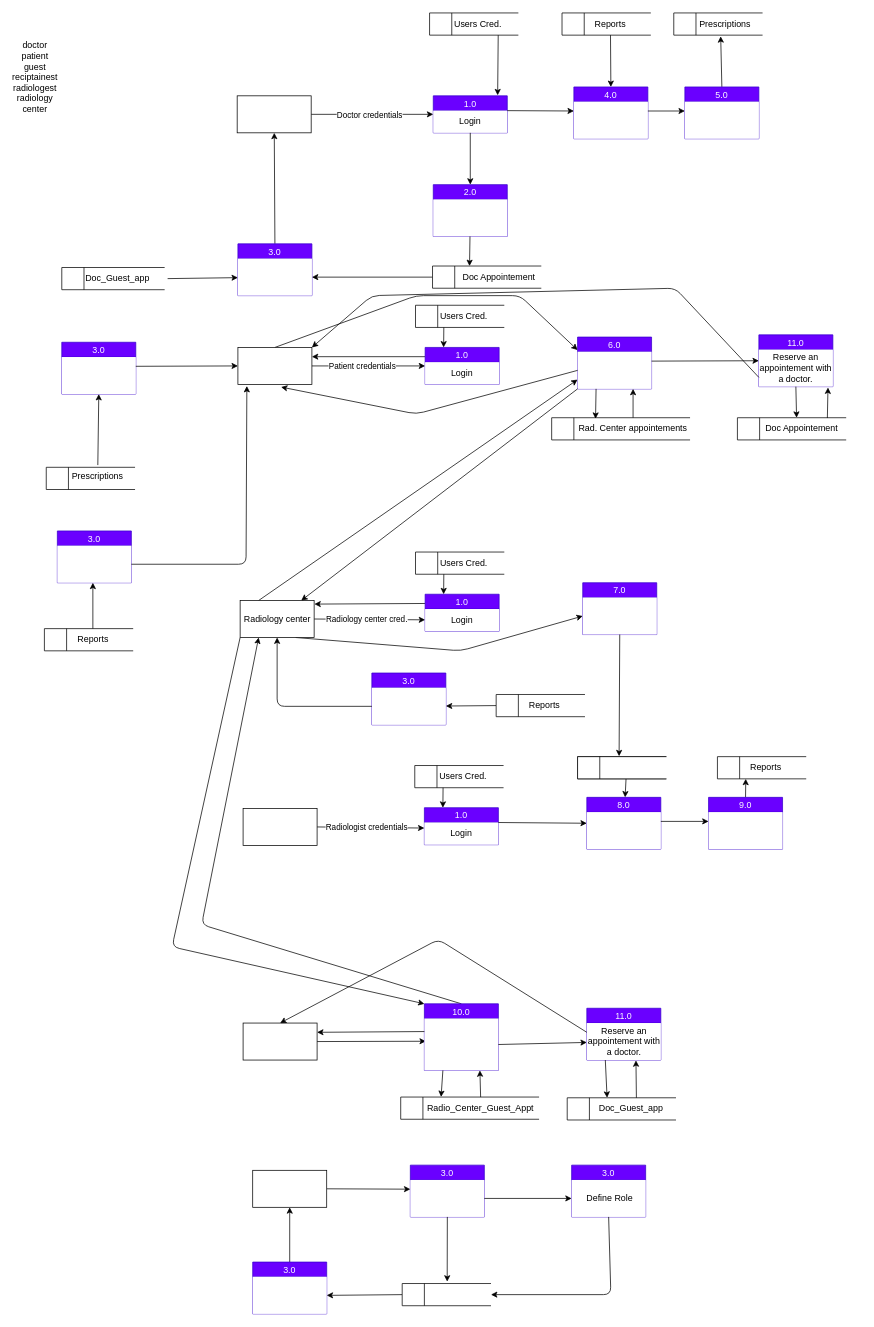
Some shapes in this 874 by 1327 pixel diagram are drawn without their labels. The shapes that lost their labels are listed below. From the top down, each one's centre as x and y in pixels, then its label:
At (x=273, y=114): "Doctorr".
At (x=611, y=119): "View patient report".
At (x=721, y=119): "Diagnose patient".
At (x=470, y=217): "Determine working hours".
At (x=275, y=276): "View reserved appointements for doctor".
At (x=98, y=375): "View Prescriptions".
At (x=274, y=365): "Patient".
At (x=614, y=370): "Reserve appointement for center".
At (x=94, y=563): "View Reports".
At (x=619, y=615): "Upload MRI".
At (x=408, y=705): "copy Report for radiolory center".
At (x=621, y=767): "Scans".
At (x=279, y=826): "Radiologist".
At (x=623, y=830): "View MRI".
At (x=745, y=830): "Write report".
At (x=279, y=1041): "Guest".
At (x=461, y=1044): "Reserve an appointement for a scan".
At (x=289, y=1188): "Receptionist".
At (x=447, y=1198): "Register User".
At (x=289, y=1295): "Registeration confirmation".
At (x=446, y=1294): "Users".
